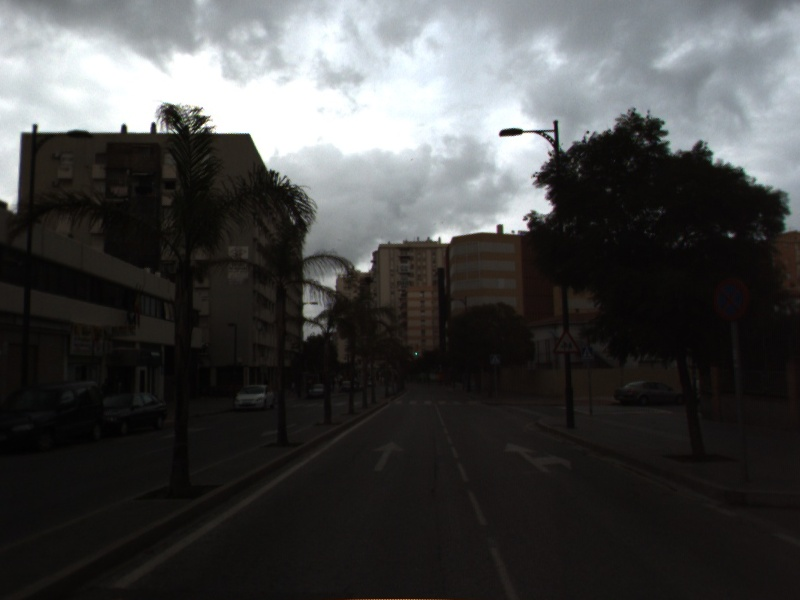STRAIGHT: (370, 438, 408, 473)
STRAIGHT_RIGHT: (501, 440, 573, 475)
